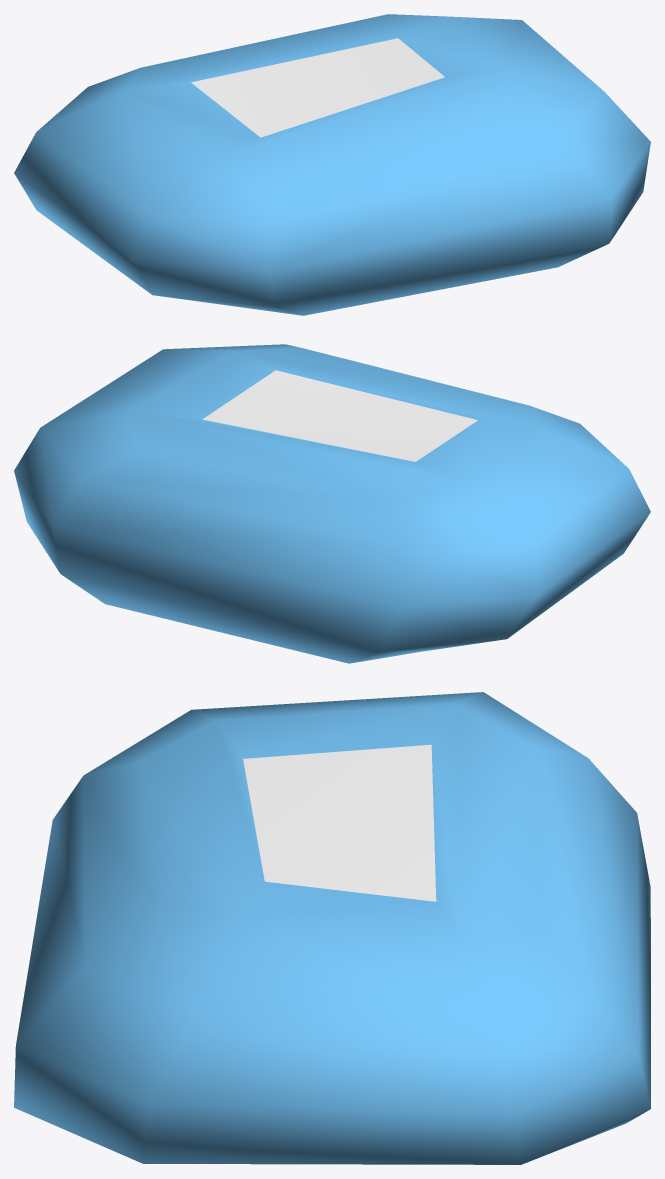
The model's file is Props_Package_10.fbx.
The picture shows the model from 3 angles, top to bottom: view 1: azimuth 30°, elevation 25°; view 2: azimuth 150°, elevation 25°; view 3: azimuth 270°, elevation 25°; orthographic projection. The views are drawn at different scales.
Visible parts, largest first — view 1: Props_Package_10; view 2: Props_Package_10; view 3: Props_Package_10.
Part boxes in pixels (<box>): Props_Package_10: <box>14,14,650,315</box>; Props_Package_10: <box>14,344,650,663</box>; Props_Package_10: <box>14,692,650,1164</box>.
Bounding box in the file's own units: 63.85 × 18.36 × 47.65.
